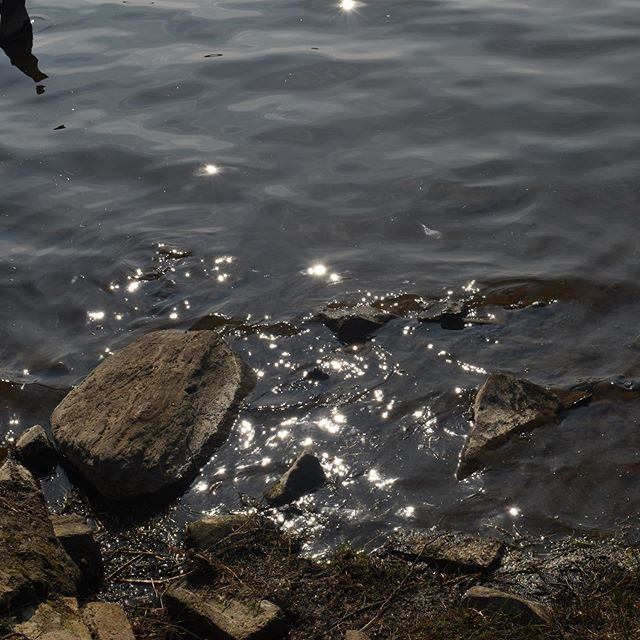river: (1, 1, 622, 332)
rocks: (1, 298, 640, 640)
